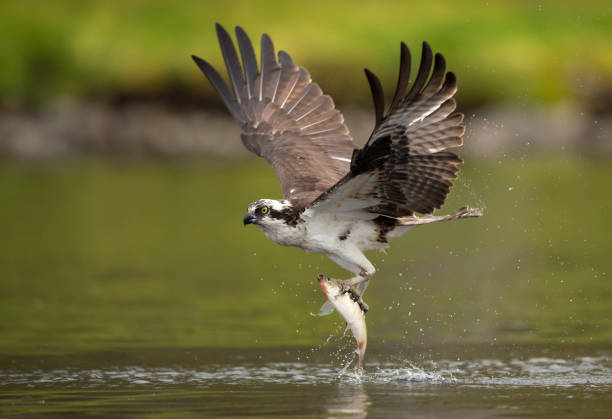Bird: (188, 16, 493, 303)
